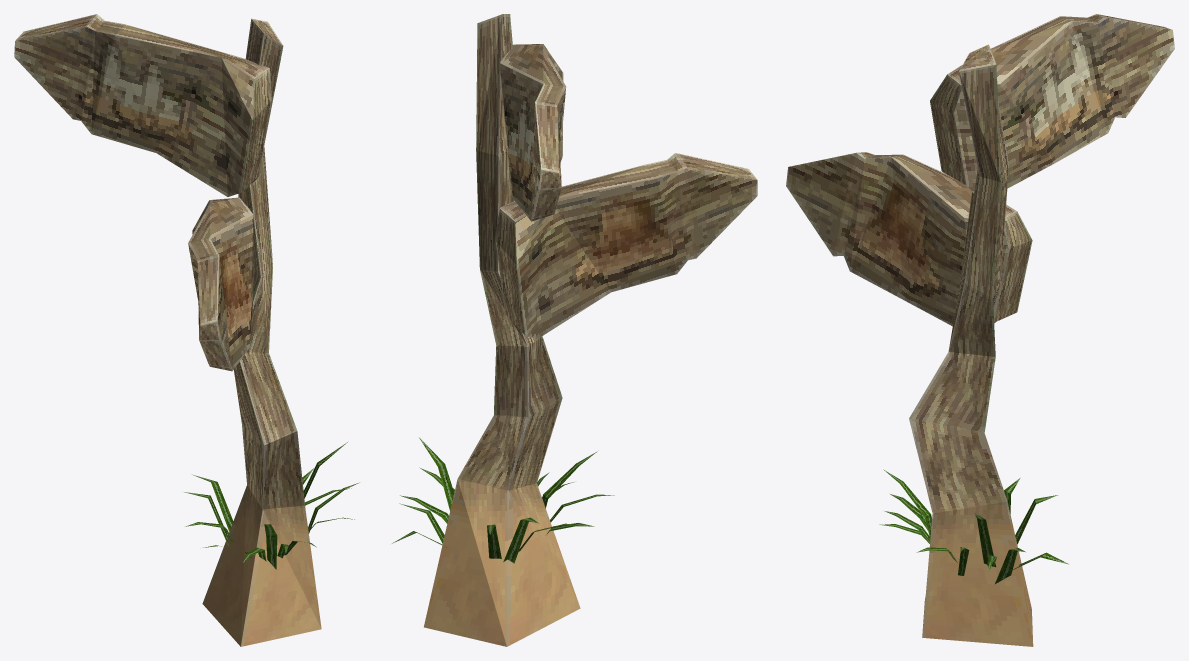
File: C2SMSIGNP_H.obj
3 renders of one model, left to right at view 1: azimuth 30°, elevation 25°; view 2: azimuth 150°, elevation 25°; view 3: azimuth 270°, elevation 25°, orthographic. The views are drawn at different scales.
Parts seen in each view (by area): view 1: Node 0; view 2: Node 0; view 3: Node 0.
Part boxes in pixels (left/top/right/bottom): Node 0: left=14, top=14, right=359, bottom=646; Node 0: left=392, top=14, right=757, bottom=646; Node 0: left=786, top=14, right=1174, bottom=646.
Size of the model in its own units: 4.06 by 9.17 by 5.6.
2 materials, 2 textured.
